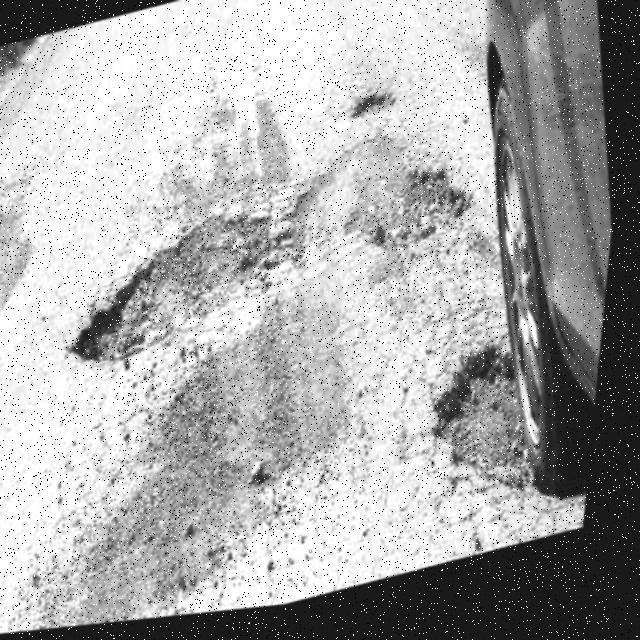pothole: (51, 176, 306, 387), (416, 336, 556, 532), (364, 154, 484, 270), (346, 83, 398, 141)
